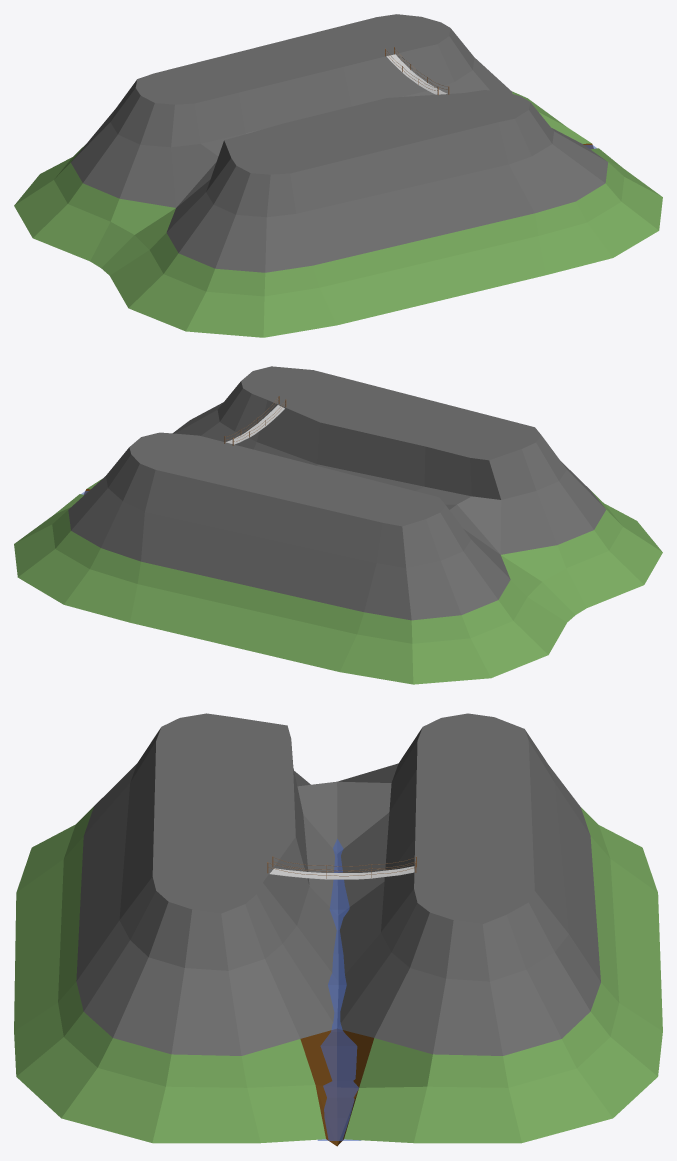
The model's file is Mountain_3.fbx.
The picture shows the model from 3 angles, top to bottom: view 1: azimuth 30°, elevation 25°; view 2: azimuth 150°, elevation 25°; view 3: azimuth 270°, elevation 25°; orthographic projection. The views are drawn at different scales.
Visible parts, largest first — view 1: Mountain_3; view 2: Mountain_3; view 3: Mountain_3.
Part boxes in pixels (<box>): Mountain_3: <box>14,14,662,337</box>; Mountain_3: <box>14,366,662,684</box>; Mountain_3: <box>14,713,662,1146</box>.
Bounding box in the file's own units: 6873 × 1588 × 5495.
